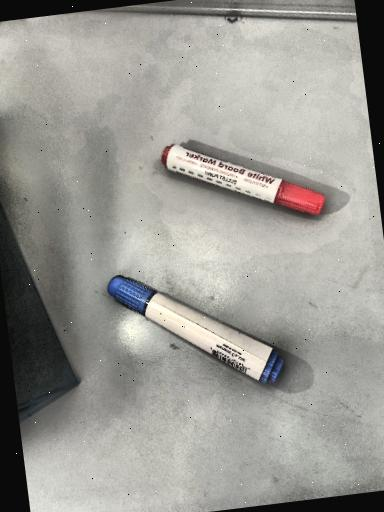marcador azul: (107, 276, 283, 383)
marcador rojo: (161, 145, 325, 215)
